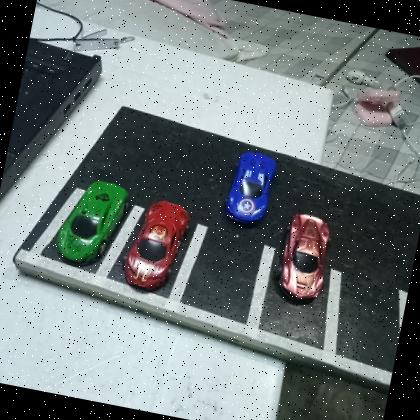Car: (51, 172, 133, 272), (118, 194, 194, 298), (271, 209, 336, 306), (219, 146, 281, 228)
